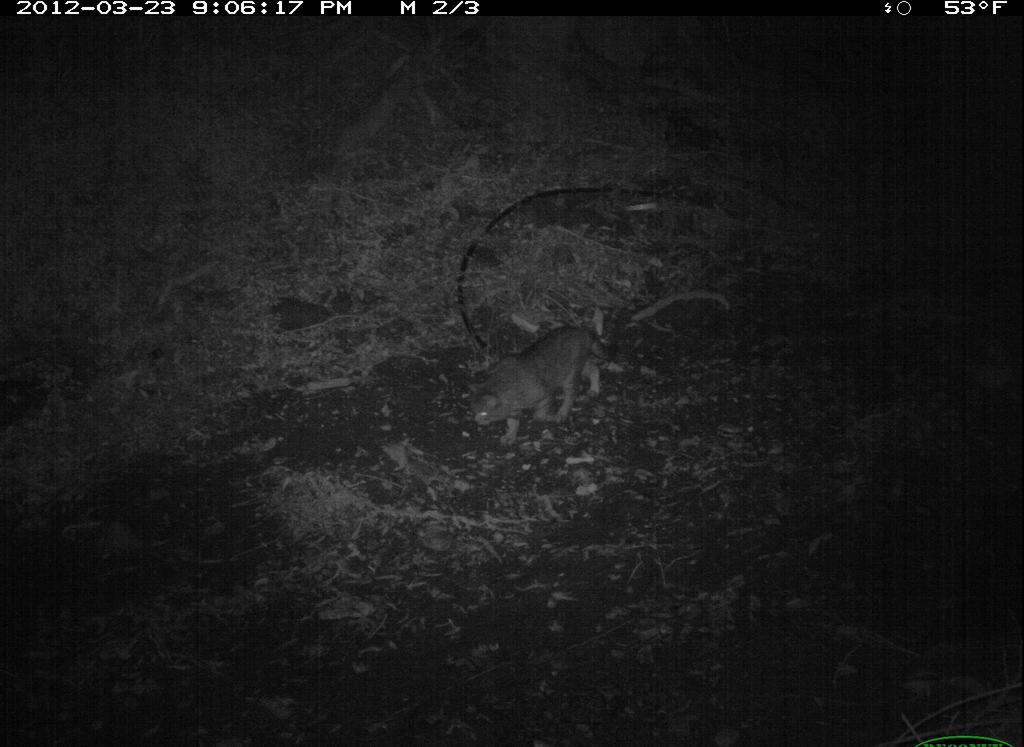cat: (454, 321, 628, 452)
